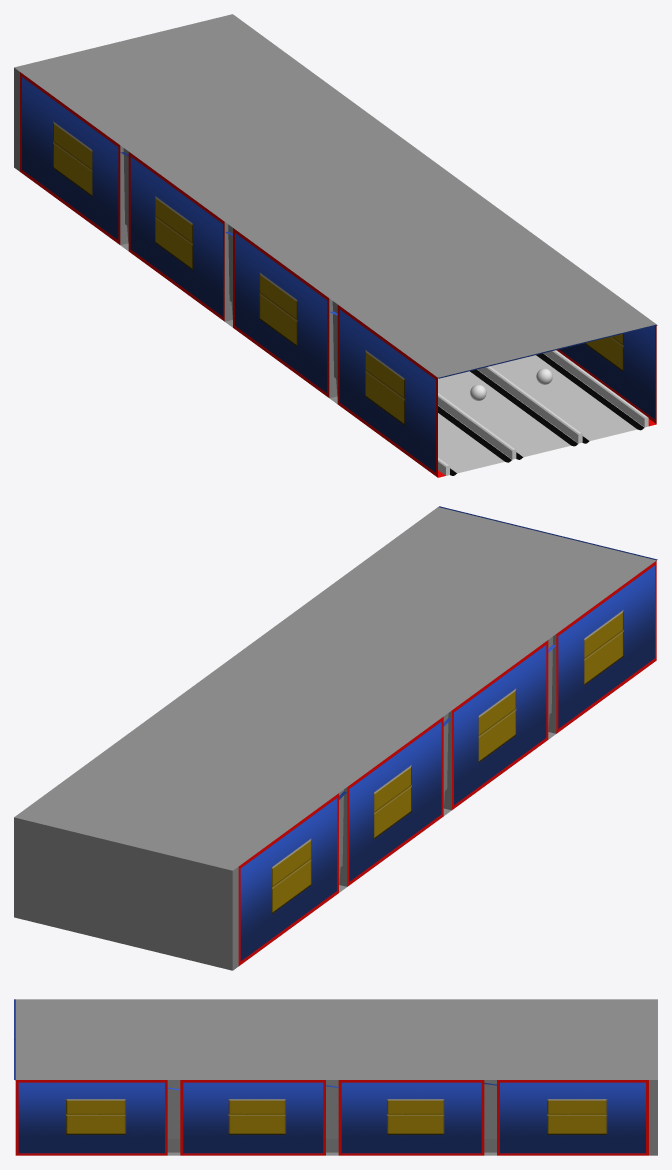
The model's file is bowling_game.FBX.
3 views of the same model, one above another, from view 1: azimuth 30°, elevation 25°; view 2: azimuth 150°, elevation 25°; view 3: azimuth 270°, elevation 25° (orthographic). The views are drawn at different scales.
Visible parts, largest first — view 1: Shape001, Plane003, Plane002, Plane001, Box003, Box004, Box001; view 2: Shape001; view 3: Shape001.
Boxes of the visible parts, bbox=[...] form: Shape001: bbox=[14, 14, 657, 477]; Plane003: bbox=[490, 353, 644, 443]; Plane002: bbox=[438, 369, 577, 459]; Plane001: bbox=[438, 406, 511, 475]; Box003: bbox=[477, 366, 582, 443]; Box004: bbox=[544, 350, 648, 427]; Box001: bbox=[438, 393, 516, 459]; Shape001: bbox=[14, 506, 657, 970]; Shape001: bbox=[14, 999, 657, 1155].
Size of the model in its own units: 4.58 by 15.41 by 2.04.
